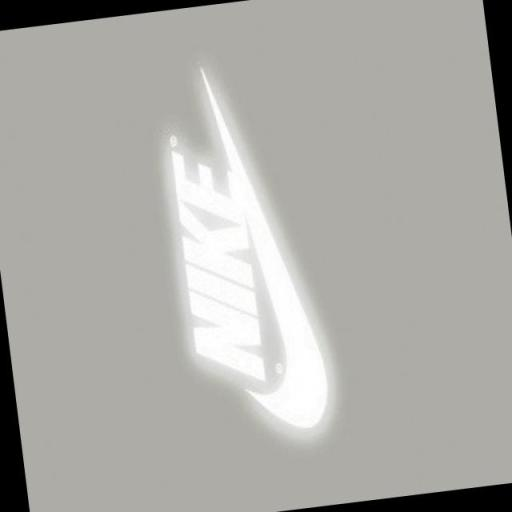Nike: (231, 149, 334, 436), (168, 138, 268, 388)
